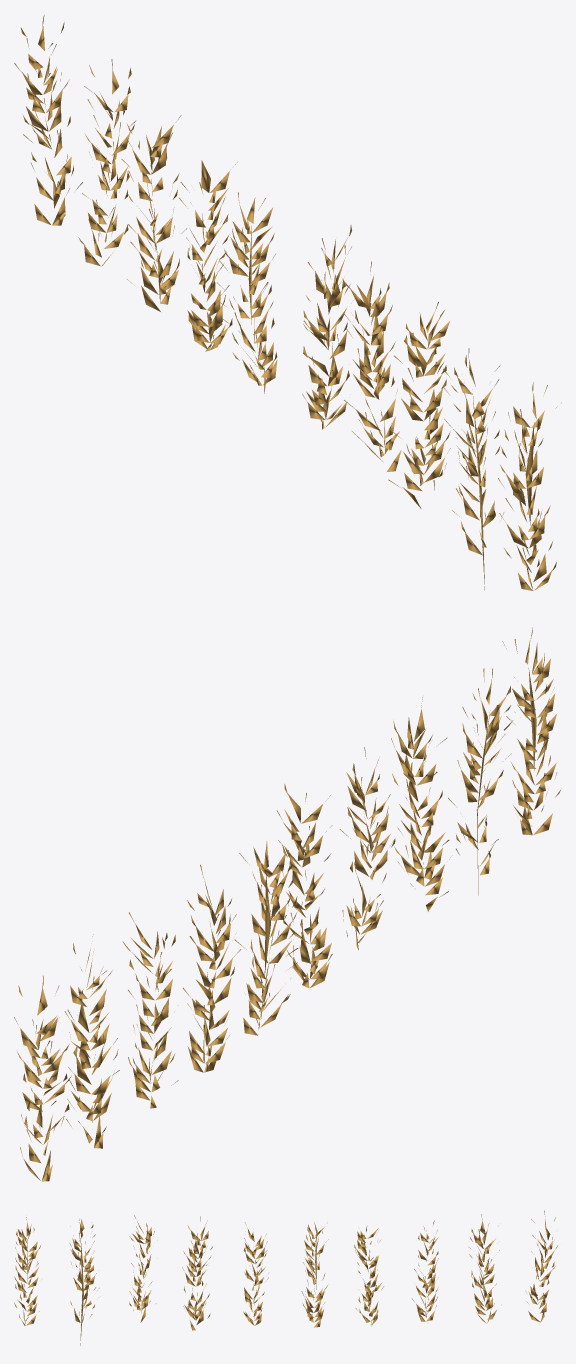
Rendered from wheat_row.glb.
3 renders of one model, top to bottom at view 1: azimuth 30°, elevation 25°; view 2: azimuth 150°, elevation 25°; view 3: azimuth 270°, elevation 25°, orthographic. The views are drawn at different scales.
Parts seen in each view (by area): view 1: Oats_03_Material #43_0, Oats_06_Material #43_0, Oats_04_Material #43_0, Oats_01_Material #43_0, Oats_05_Material #43_0, Oats_08_Material #43_0, Oats_07_Material #43_0, Oats_10_Material #43_0, Oats_09_Material #43_0, Oats_02_Material #43_0; view 2: Oats_06_Material #43_0, Oats_03_Material #43_0, Oats_01_Material #43_0, Oats_07_Material #43_0, Oats_05_Material #43_0, Oats_09_Material #43_0, Oats_10_Material #43_0, Oats_04_Material #43_0, Oats_08_Material #43_0, Oats_02_Material #43_0; view 3: Oats_04_Material #43_0, Oats_01_Material #43_0, Oats_06_Material #43_0, Oats_09_Material #43_0, Oats_02_Material #43_0, Oats_07_Material #43_0, Oats_05_Material #43_0, Oats_08_Material #43_0, Oats_10_Material #43_0, Oats_03_Material #43_0.
Boxes of the visible parts, x1=… form: Oats_03_Material #43_0: x1=388, y1=302, x2=450, y2=508; Oats_06_Material #43_0: x1=216, y1=192, x2=277, y2=393; Oats_04_Material #43_0: x1=342, y1=261, x2=401, y2=472; Oats_01_Material #43_0: x1=498, y1=382, x2=561, y2=590; Oats_05_Material #43_0: x1=302, y1=225, x2=353, y2=429; Oats_08_Material #43_0: x1=121, y1=115, x2=186, y2=311; Oats_07_Material #43_0: x1=179, y1=160, x2=237, y2=351; Oats_10_Material #43_0: x1=14, y1=15, x2=82, y2=225; Oats_09_Material #43_0: x1=78, y1=59, x2=135, y2=266; Oats_02_Material #43_0: x1=442, y1=348, x2=503, y2=590; Oats_06_Material #43_0: x1=234, y1=841, x2=298, y2=1035; Oats_03_Material #43_0: x1=391, y1=697, x2=452, y2=911; Oats_01_Material #43_0: x1=502, y1=627, x2=560, y2=835; Oats_07_Material #43_0: x1=183, y1=864, x2=240, y2=1072; Oats_05_Material #43_0: x1=277, y1=784, x2=332, y2=988; Oats_09_Material #43_0: x1=64, y1=934, x2=119, y2=1148; Oats_10_Material #43_0: x1=14, y1=975, x2=71, y2=1181; Oats_04_Material #43_0: x1=339, y1=747, x2=395, y2=950; Oats_08_Material #43_0: x1=122, y1=912, x2=178, y2=1108; Oats_02_Material #43_0: x1=448, y1=668, x2=512, y2=895; Oats_04_Material #43_0: x1=182, y1=1216, x2=212, y2=1330; Oats_01_Material #43_0: x1=14, y1=1217, x2=40, y2=1325; Oats_06_Material #43_0: x1=301, y1=1221, x2=328, y2=1327; Oats_09_Material #43_0: x1=469, y1=1214, x2=499, y2=1323; Oats_02_Material #43_0: x1=69, y1=1218, x2=99, y2=1345; Oats_07_Material #43_0: x1=354, y1=1226, x2=383, y2=1326; Oats_05_Material #43_0: x1=243, y1=1222, x2=268, y2=1325; Oats_08_Material #43_0: x1=411, y1=1220, x2=438, y2=1321; Oats_10_Material #43_0: x1=525, y1=1210, x2=557, y2=1322; Oats_03_Material #43_0: x1=129, y1=1215, x2=156, y2=1322.
Bounding box in the file's own units: 0.2361 × 0.7507 × 2.69.
Materials: 1 (1 with a texture image).
